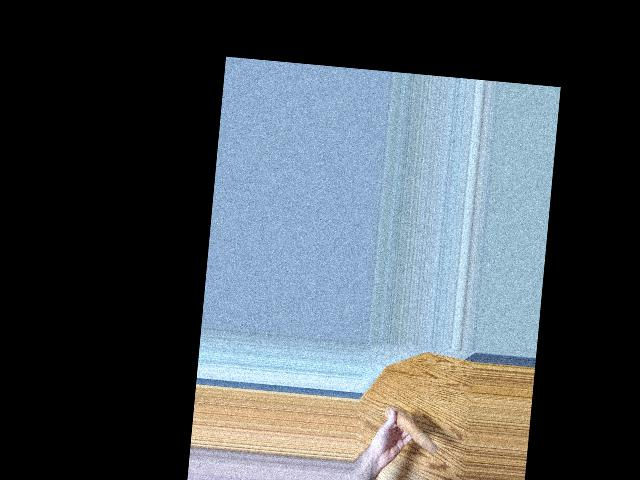sweet_potato: (381, 407, 440, 454)
